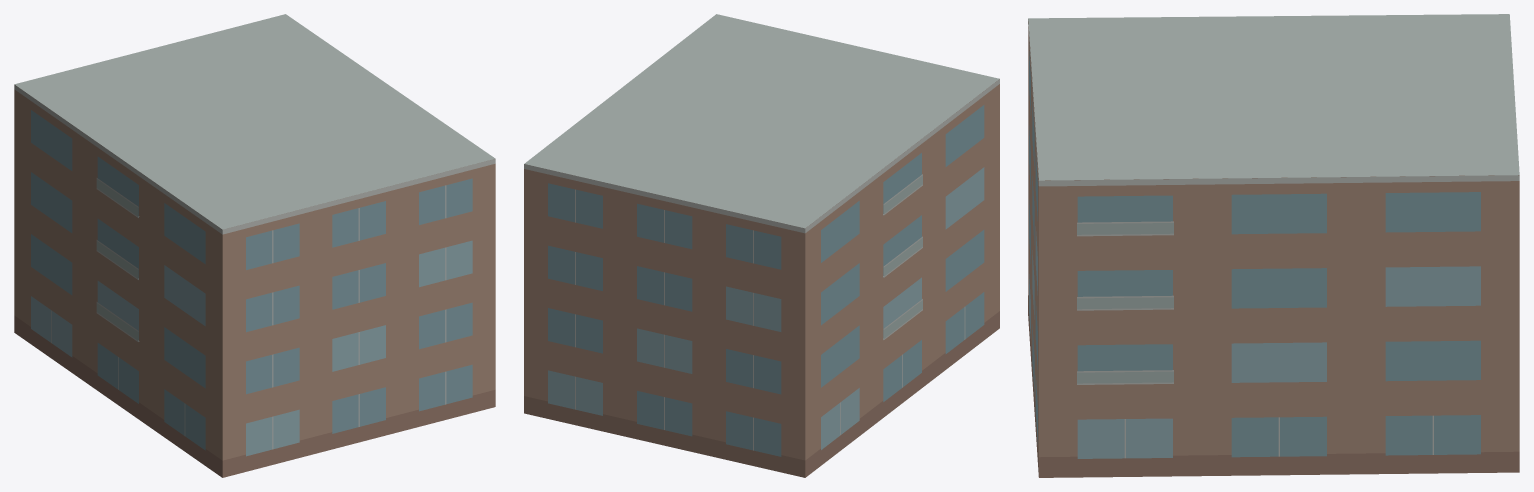
Rendered from survey-upis-32641930.glb.
The picture shows the model from 3 angles, left to right: view 1: azimuth 30°, elevation 25°; view 2: azimuth 150°, elevation 25°; view 3: azimuth 270°, elevation 25°; orthographic projection. The views are drawn at different scales.
Parts seen in each view (by area): view 1: survey-upis-32641930.tmp; view 2: survey-upis-32641930.tmp; view 3: survey-upis-32641930.tmp.
Part boxes in pixels (left/top/right/bottom): survey-upis-32641930.tmp: left=14, top=14, right=495, bottom=477; survey-upis-32641930.tmp: left=524, top=14, right=999, bottom=477; survey-upis-32641930.tmp: left=1028, top=14, right=1519, bottom=477.
Bounding box in the file's own units: 14.66 × 12.2 × 18.28.
